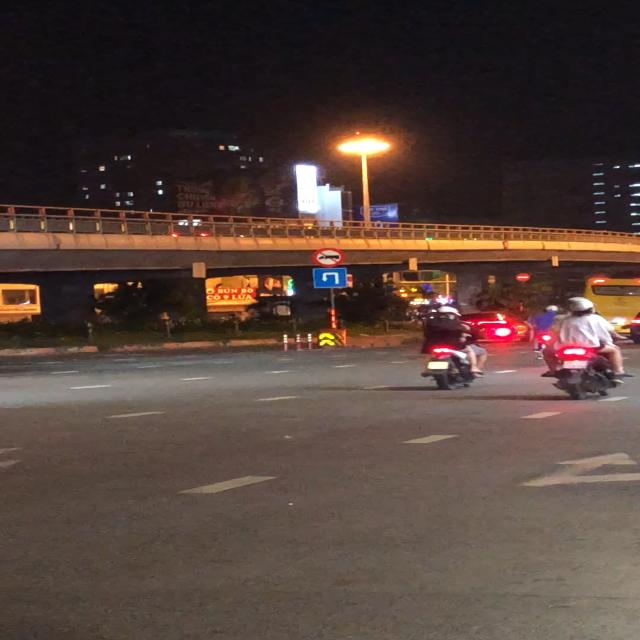Bien bao cam xe so-mi ro-mooc: (313, 246, 345, 268)
